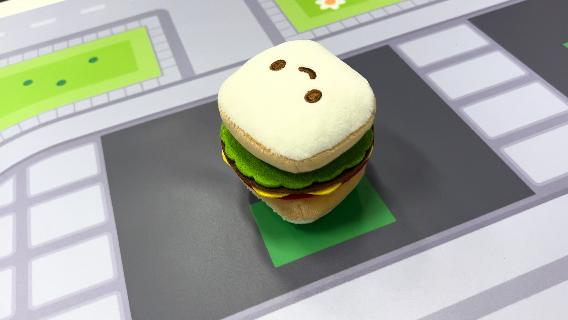sandwich: (215, 38, 379, 226)
